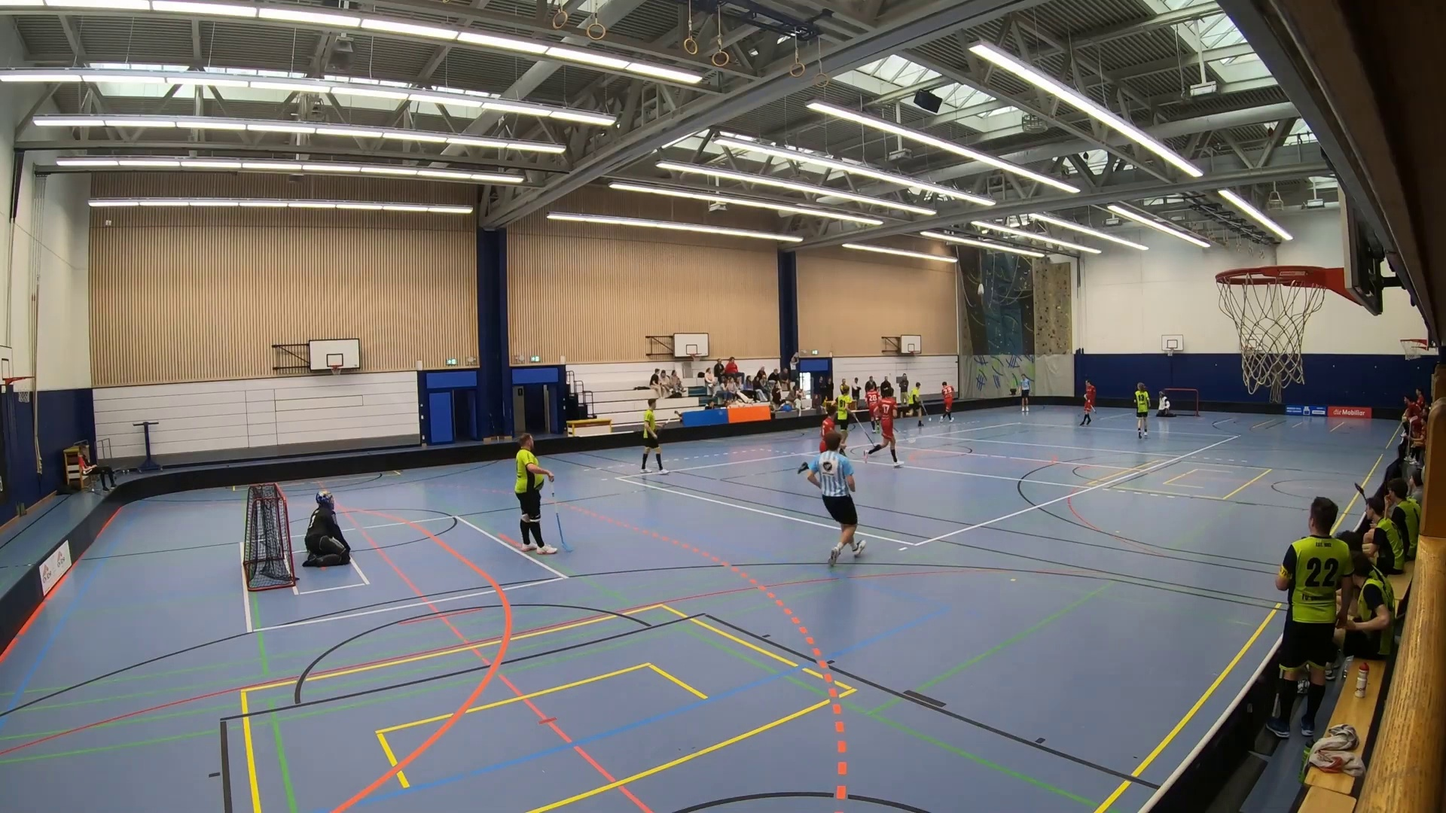Schiri: (788, 426, 881, 573), (1013, 372, 1037, 417)
ball: (928, 417, 931, 422)
goalkeeper: (303, 489, 350, 566), (1154, 388, 1181, 421)
player: (504, 432, 577, 561), (862, 386, 917, 474), (797, 404, 848, 474), (829, 383, 876, 452), (903, 382, 934, 429), (1127, 381, 1152, 439), (1074, 378, 1100, 427), (937, 378, 961, 428), (867, 382, 880, 432)
